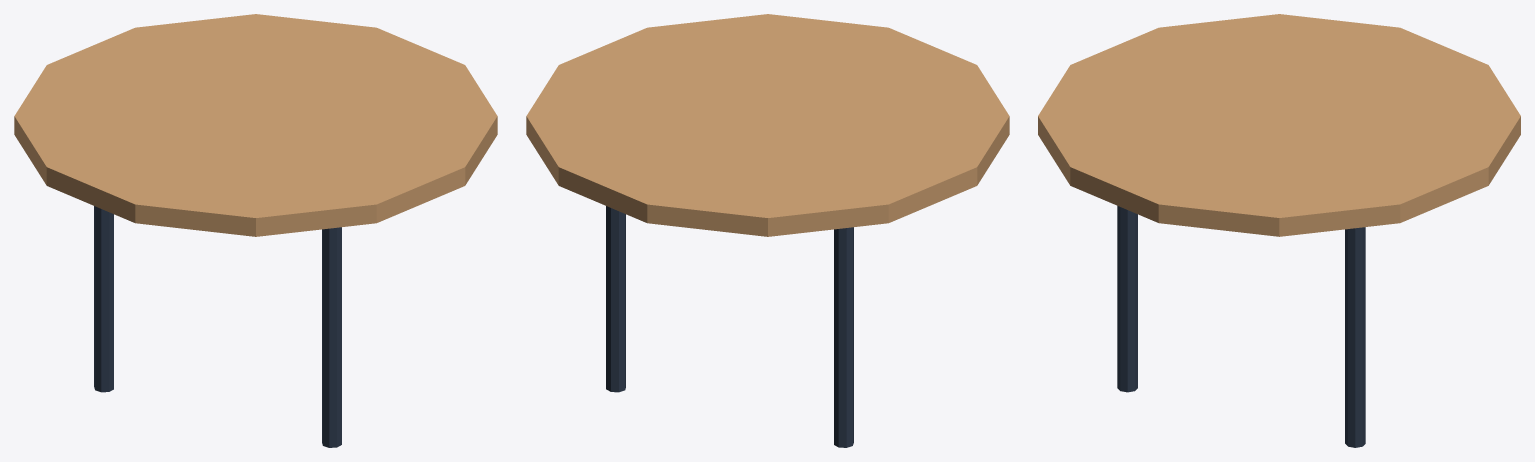
The model's file is coffee-table.glb.
3 views of the same model, side by side, from view 1: azimuth 30°, elevation 25°; view 2: azimuth 150°, elevation 25°; view 3: azimuth 270°, elevation 25° (orthographic).
Parts seen in each view (by area): view 1: CoffeeTable; view 2: CoffeeTable; view 3: CoffeeTable.
Part boxes in pixels (box(x1,y1,x2,y2)): CoffeeTable: box(14, 14, 497, 447); CoffeeTable: box(526, 14, 1009, 447); CoffeeTable: box(1038, 14, 1520, 447).
Bounding box in the file's own units: 0.7 × 0.435 × 0.7.
